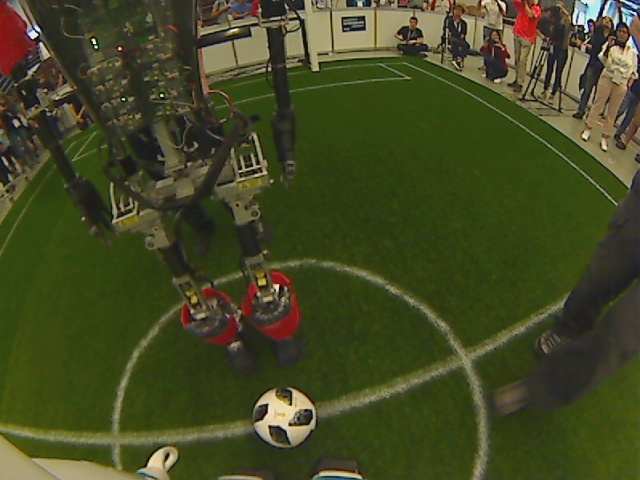ball: (248, 383, 322, 453)
